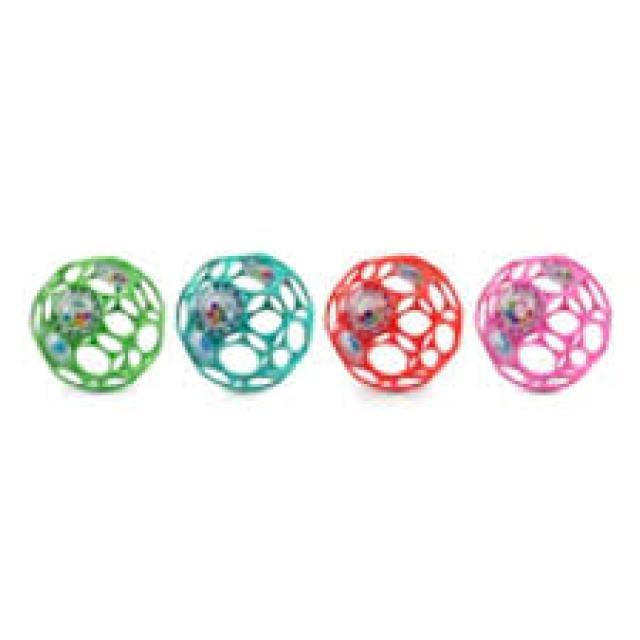hard-toy: (177, 255, 314, 392), (326, 257, 462, 392), (477, 257, 612, 393), (32, 259, 165, 393)
